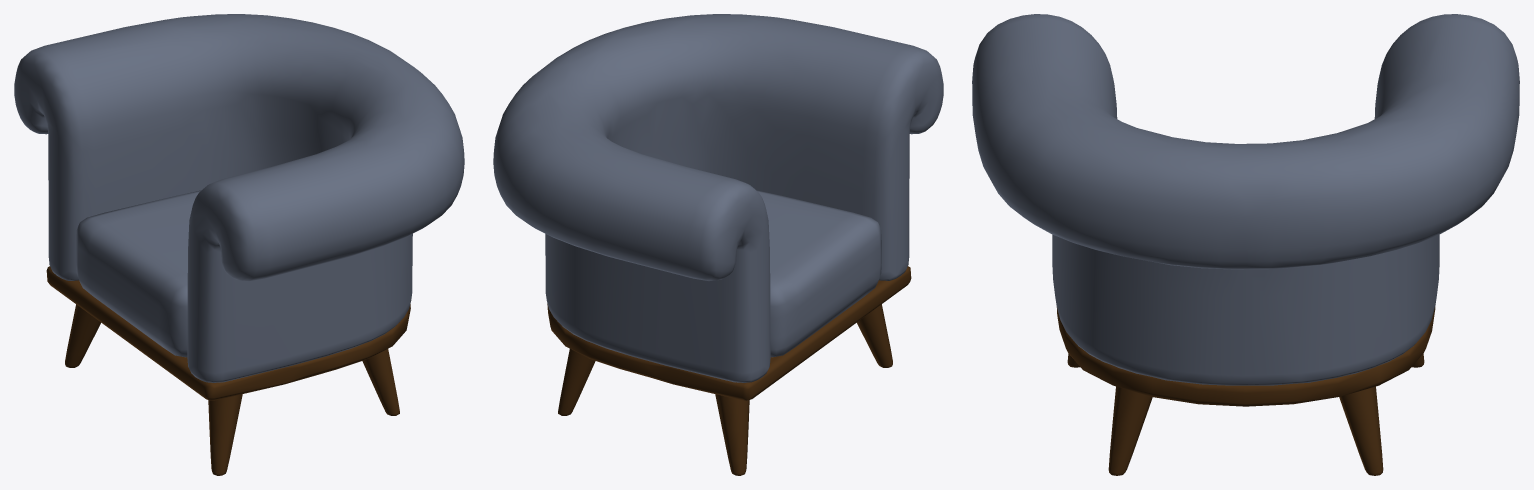
File: armchair_09_dark_gray.fbx
The picture shows the model from 3 angles, left to right: view 1: azimuth 30°, elevation 25°; view 2: azimuth 150°, elevation 25°; view 3: azimuth 270°, elevation 25°; orthographic projection. The views are drawn at different scales.
Visible parts, largest first — view 1: armchair_09_dark_gray; view 2: armchair_09_dark_gray; view 3: armchair_09_dark_gray.
Part boxes in pixels (left/top/right/bottom): armchair_09_dark_gray: left=14, top=14, right=464, bottom=475; armchair_09_dark_gray: left=493, top=14, right=943, bottom=475; armchair_09_dark_gray: left=972, top=14, right=1519, bottom=475.
Bounding box in the file's own units: 106 × 102 × 145.
2 materials, 2 textured.
